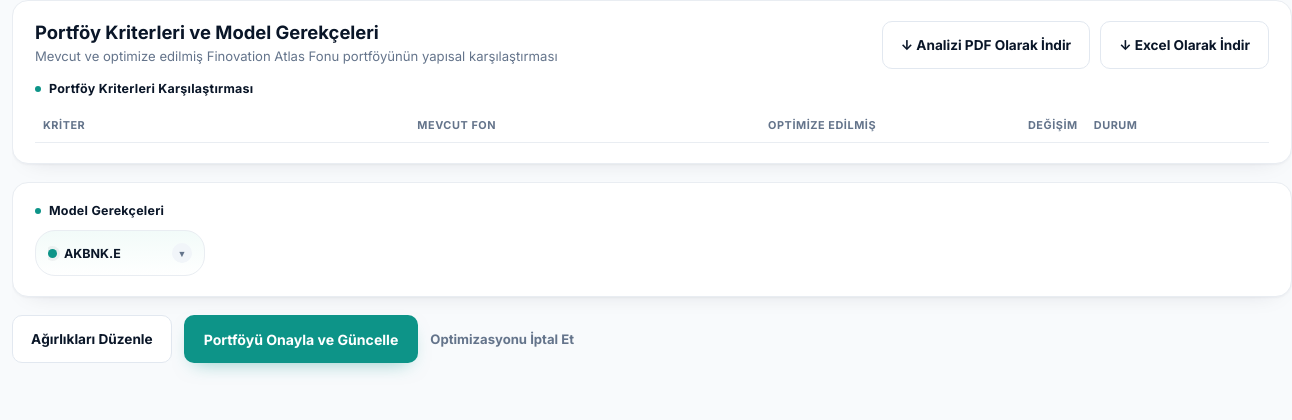
Test: PortfolioCriteriaScreen — Model Gerekçeleri › gerekçe metnini varsayılan olarak gizler, butona tıklayınca gösterir
Check: the text "Detaylı gerekçe metni burada" is not shown
Click the button named "AKBNK.E gerekçesini göster": (182, 253) [172,243,192,263]
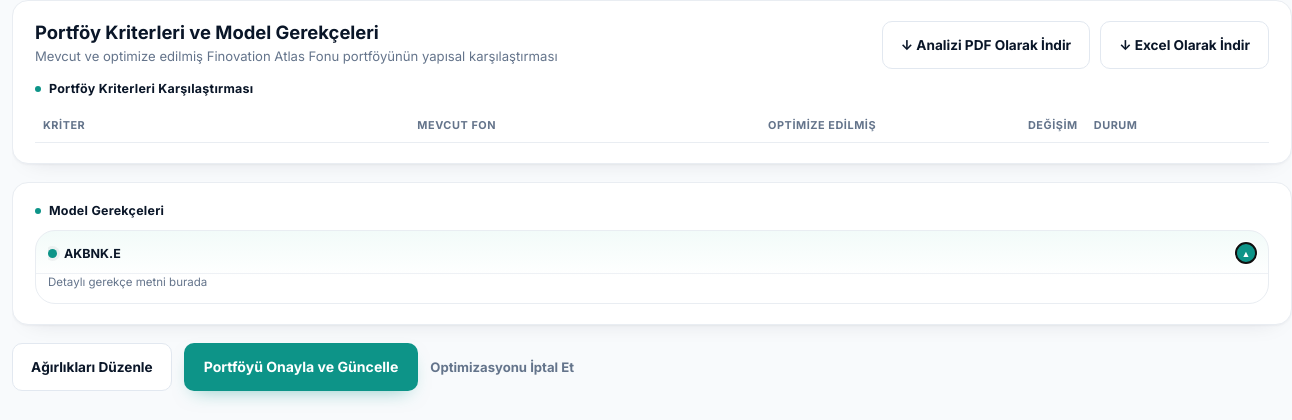
Check: the text "Detaylı gerekçe metni burada" is shown, box [48,275,207,289]
Click the button named "AKBNK.E gerekçesini gizle": (1246, 253) [1236,243,1256,263]
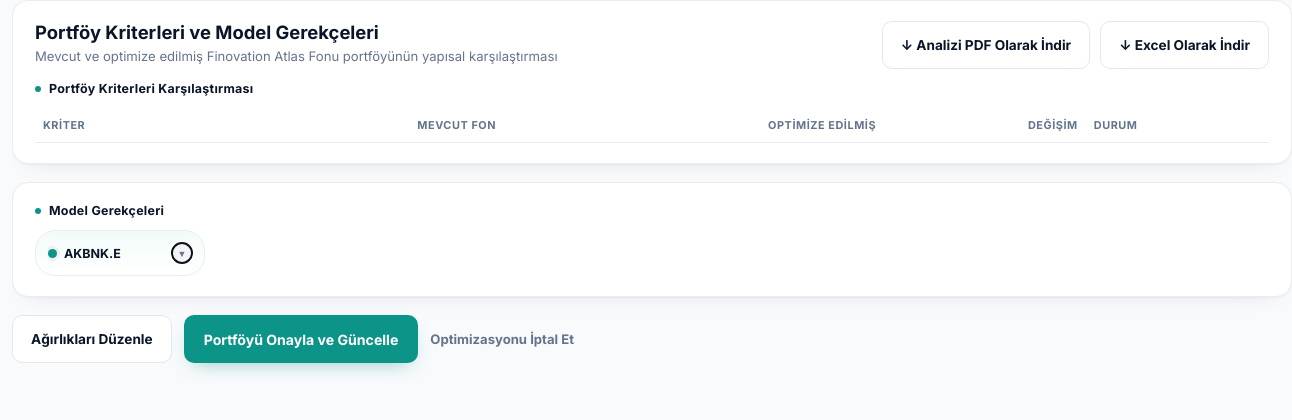
Check: the text "Detaylı gerekçe metni burada" is gone
